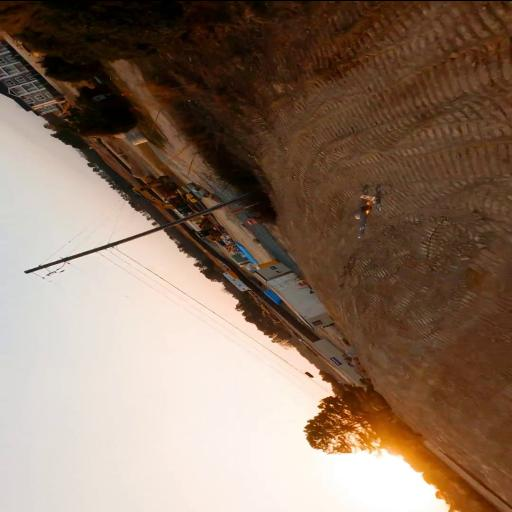uav: (350, 180, 388, 240)
